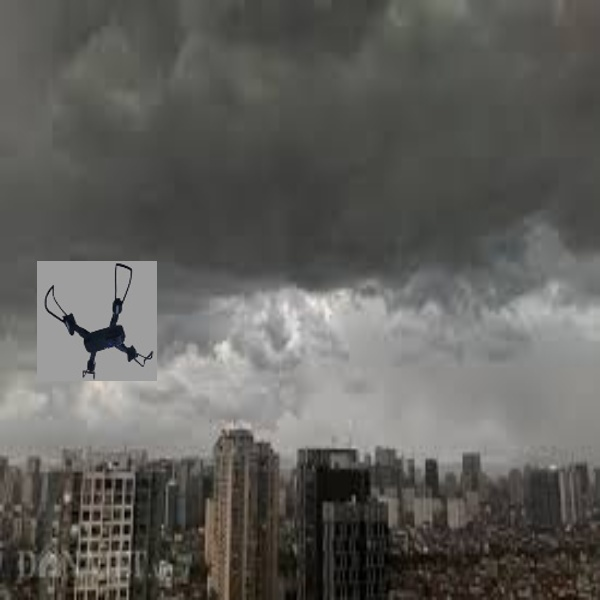drone: (40, 262, 156, 378)
